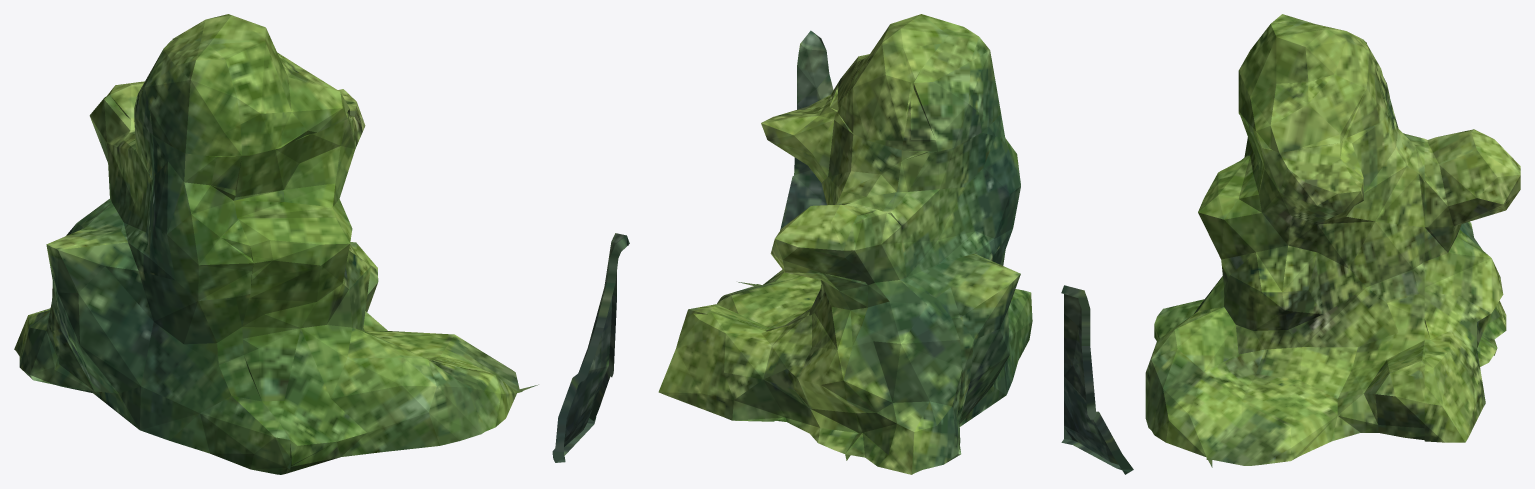
File: BuildingMesh-00000.gltf
The picture shows the model from 3 angles, left to right: view 1: azimuth 30°, elevation 25°; view 2: azimuth 150°, elevation 25°; view 3: azimuth 270°, elevation 25°; orthographic projection. The views are drawn at different scales.
Visible parts, largest first — view 1: BuildingMesh-00000; view 2: BuildingMesh-00000; view 3: BuildingMesh-00000.
Part boxes in pixels (left/top/right/bottom): BuildingMesh-00000: left=14, top=14, right=629, bottom=474; BuildingMesh-00000: left=658, top=14, right=1032, bottom=474; BuildingMesh-00000: left=1061, top=14, right=1520, bottom=474.
Size of the model in its own units: 0.5529 by 0.5098 by 0.6196.
Materials: 1 (1 with a texture image).
